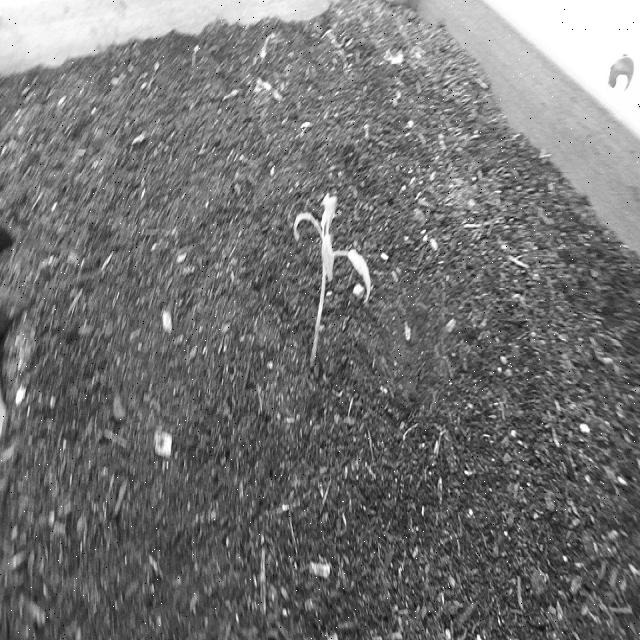Healthy: (286, 182, 376, 383)
